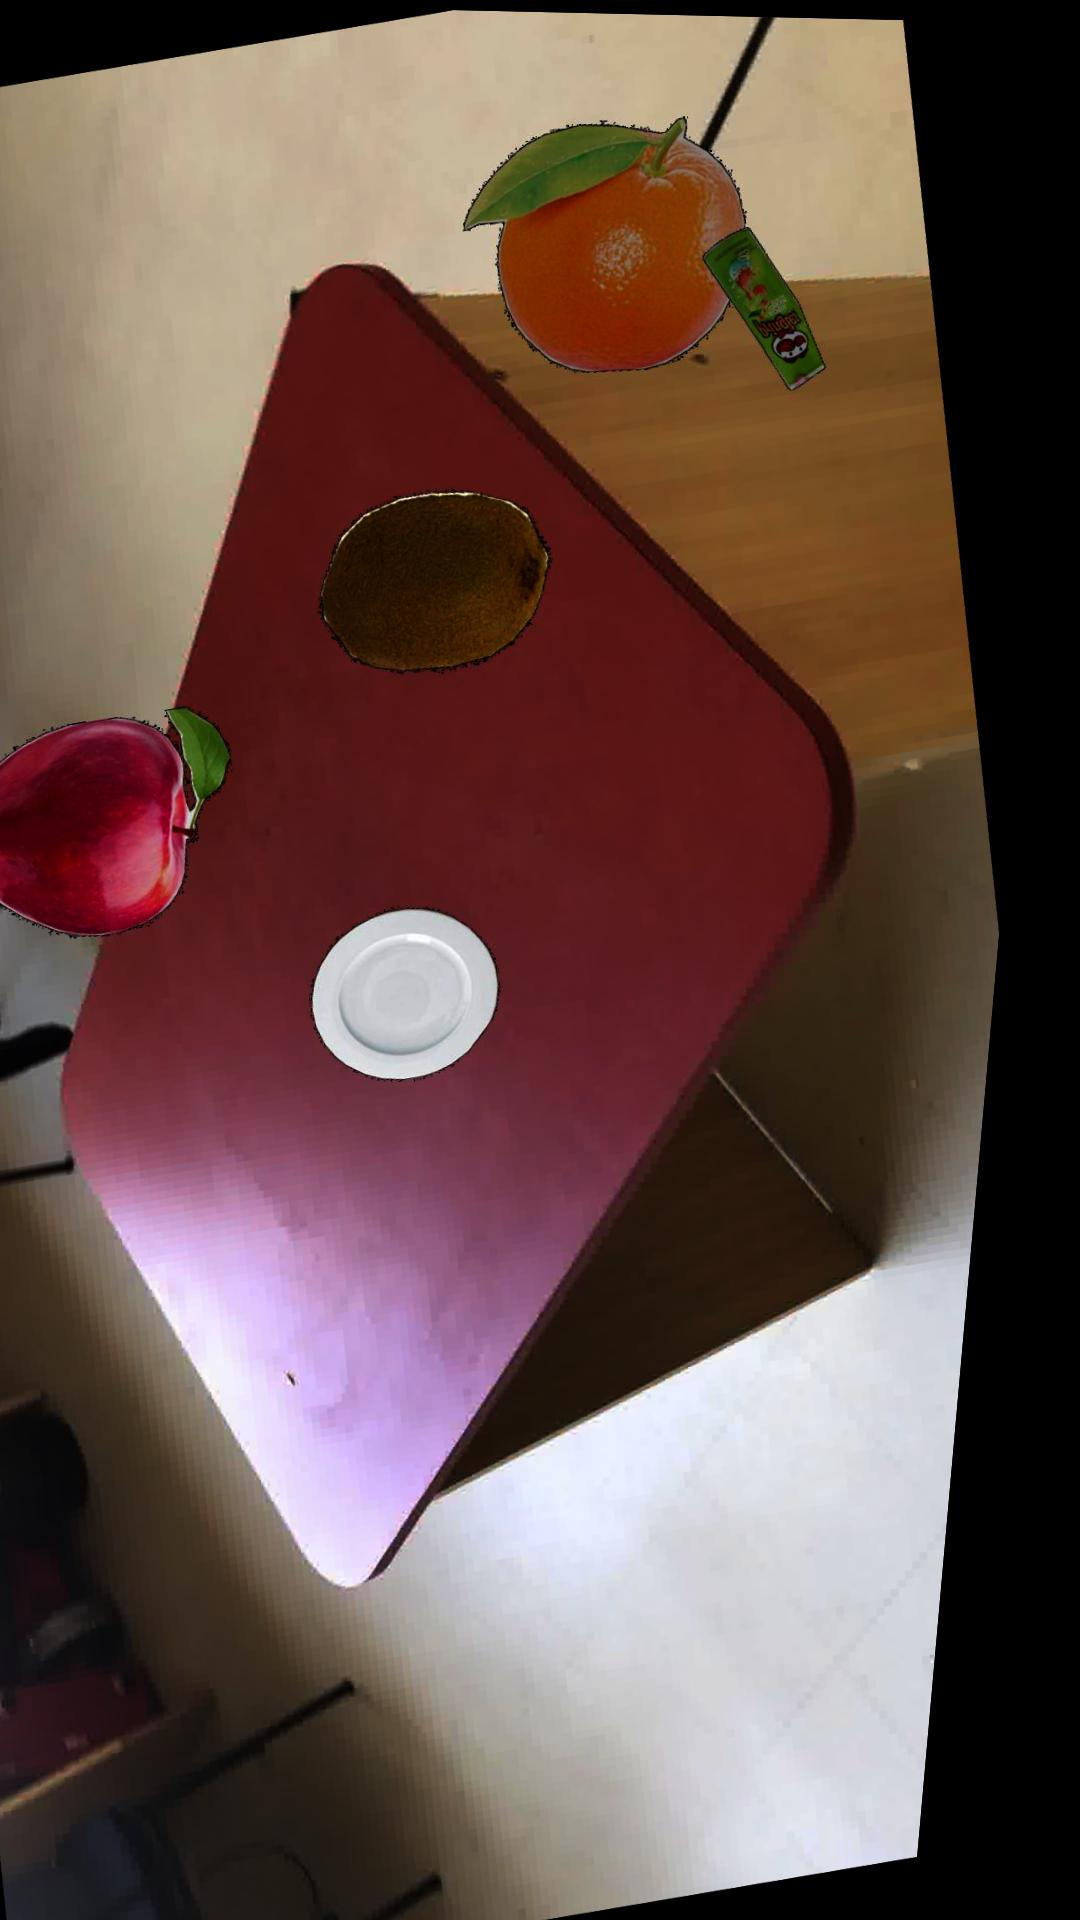apple: (0, 703, 245, 934)
kiwi: (331, 487, 560, 667)
orange: (468, 111, 750, 367)
plate: (330, 903, 518, 1076)
pringles: (707, 220, 833, 384)
